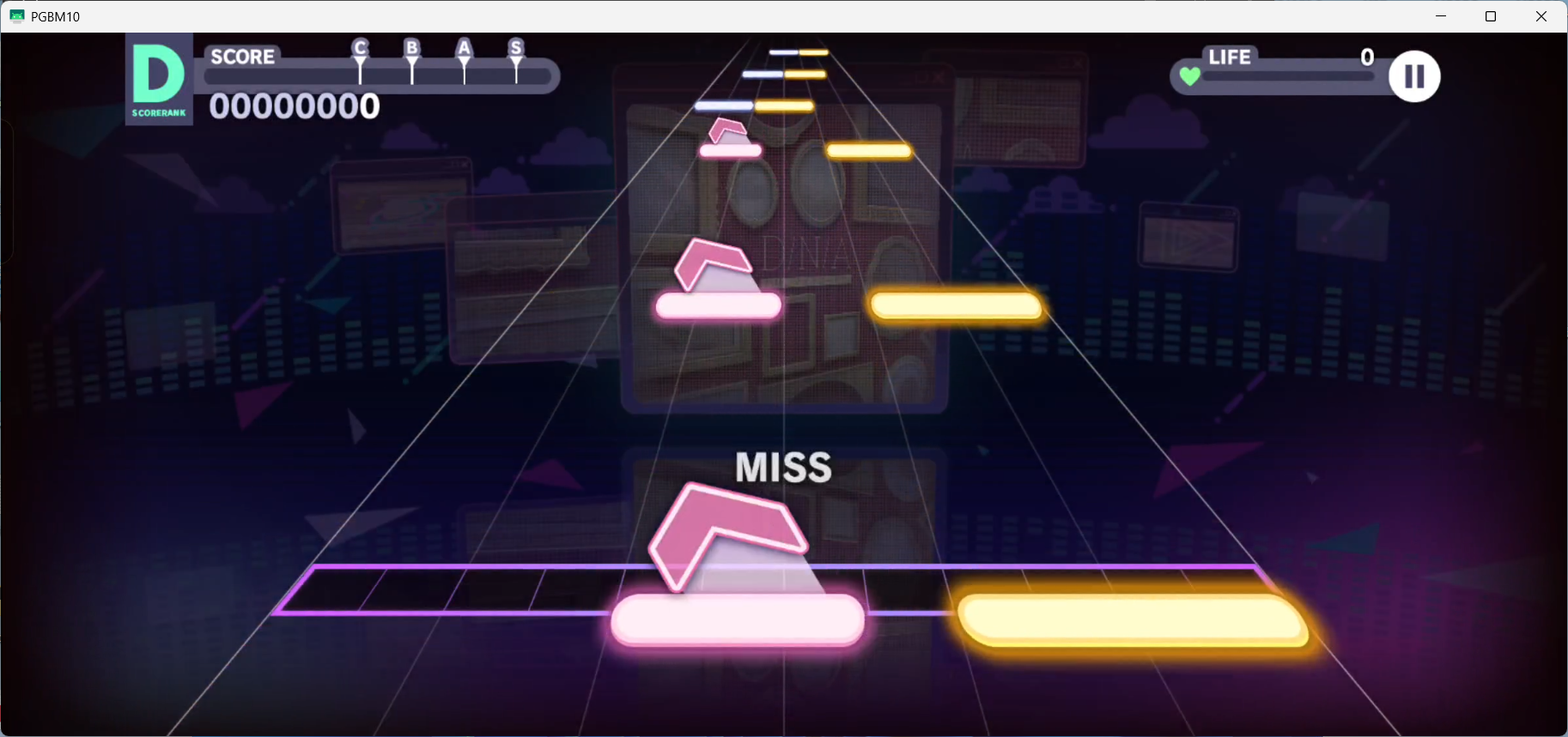flick: (646, 482, 828, 595), (674, 237, 761, 292), (708, 116, 751, 143)
tap: (955, 593, 1310, 650), (609, 594, 866, 647), (870, 292, 1042, 323), (653, 290, 781, 318), (827, 144, 911, 158), (700, 144, 762, 157), (755, 100, 814, 112), (695, 100, 753, 112), (785, 70, 826, 78), (743, 70, 783, 78), (799, 50, 829, 56), (769, 50, 798, 55)
